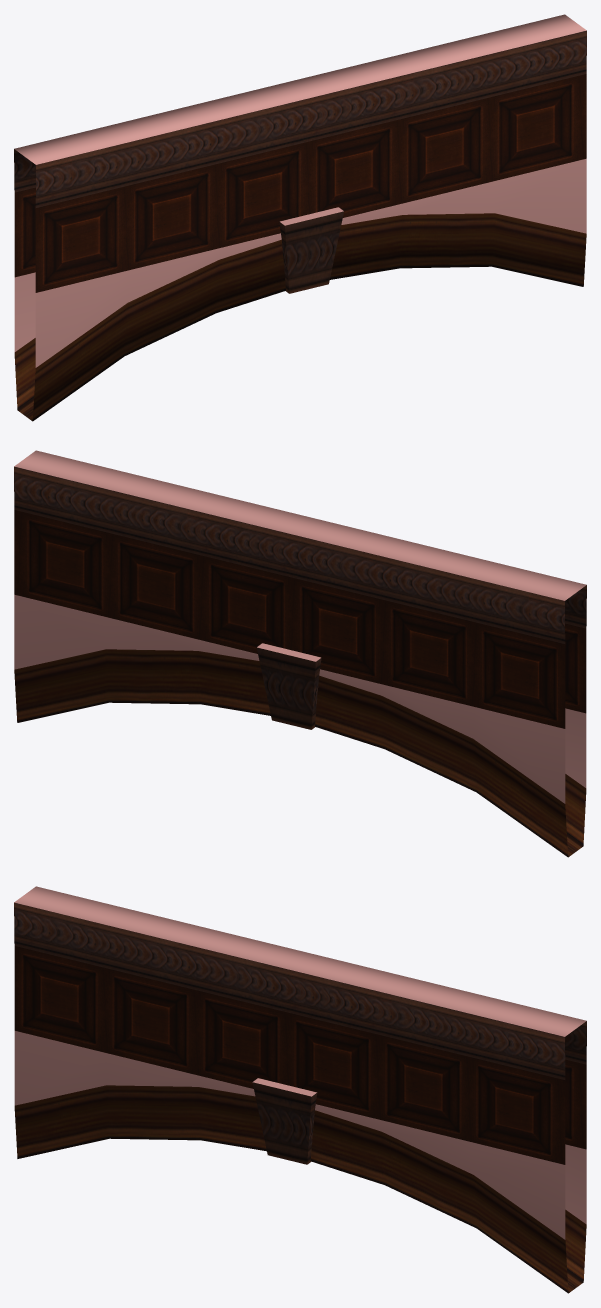
File: BalconeyBit_Lower.fbx
The picture shows the model from 3 angles, top to bottom: view 1: azimuth 30°, elevation 25°; view 2: azimuth 150°, elevation 25°; view 3: azimuth 330°, elevation 25°; orthographic projection.
Parts seen in each view (by area): view 1: BalconyUndersidepart; view 2: BalconyUndersidepart; view 3: BalconyUndersidepart.
Boxes of the visible parts, x1,y1,x2,y2 form: BalconyUndersidepart: [14, 14, 586, 421]; BalconyUndersidepart: [14, 450, 586, 857]; BalconyUndersidepart: [14, 886, 586, 1293].
Bounding box in the file's own units: 323 × 145 × 33.19.
